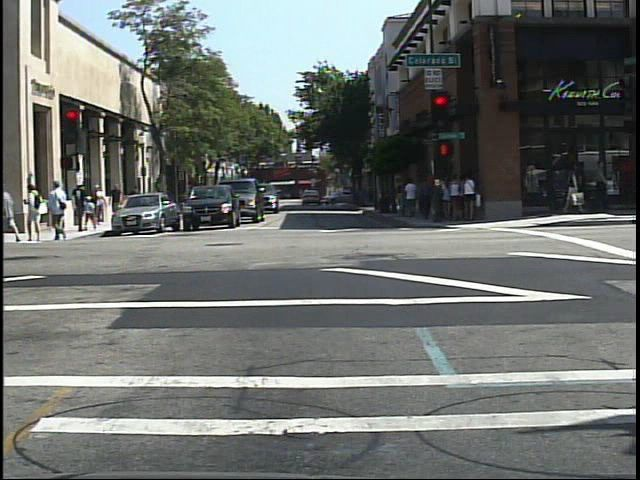person: (48, 175, 72, 244), (5, 175, 27, 247), (23, 183, 47, 244)
